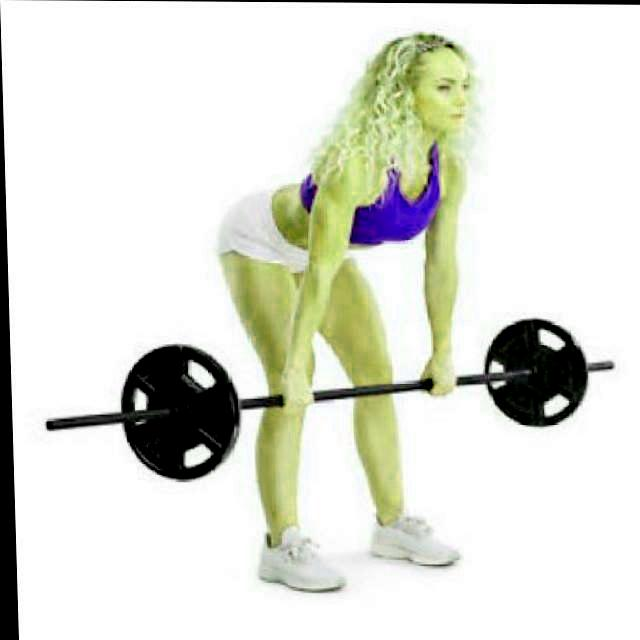barbell: (30, 344, 246, 485)
